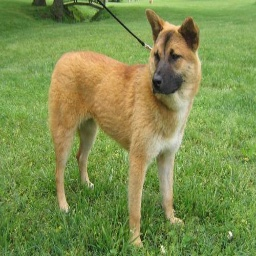dog: (44, 10, 204, 249)
